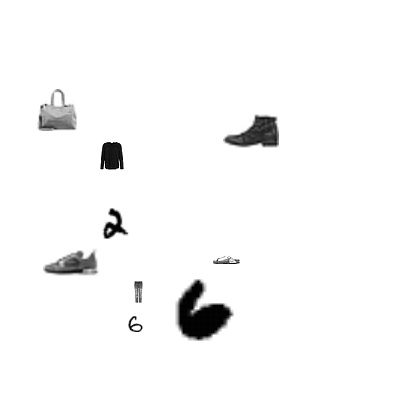2: (92, 204, 134, 246)
6: (158, 271, 242, 355), (123, 314, 145, 336)
Ankle_boot: (223, 103, 279, 159)
Bag: (36, 89, 78, 131)
Sandal: (212, 246, 240, 274)
Shirt: (98, 142, 126, 170)
Sneaker: (43, 233, 99, 289)
Trouser: (127, 281, 149, 303)
